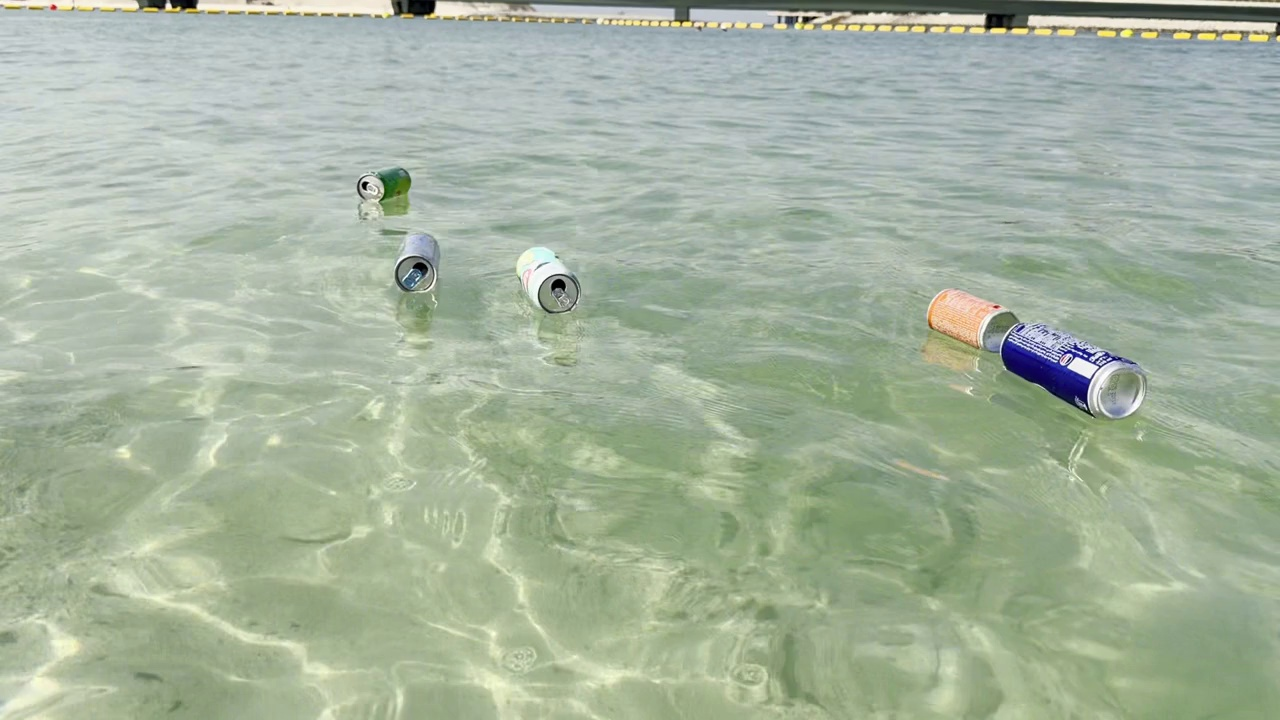debris: (992, 302, 1157, 429), (918, 278, 1021, 352), (514, 240, 586, 318), (386, 221, 451, 302), (353, 166, 412, 201)
